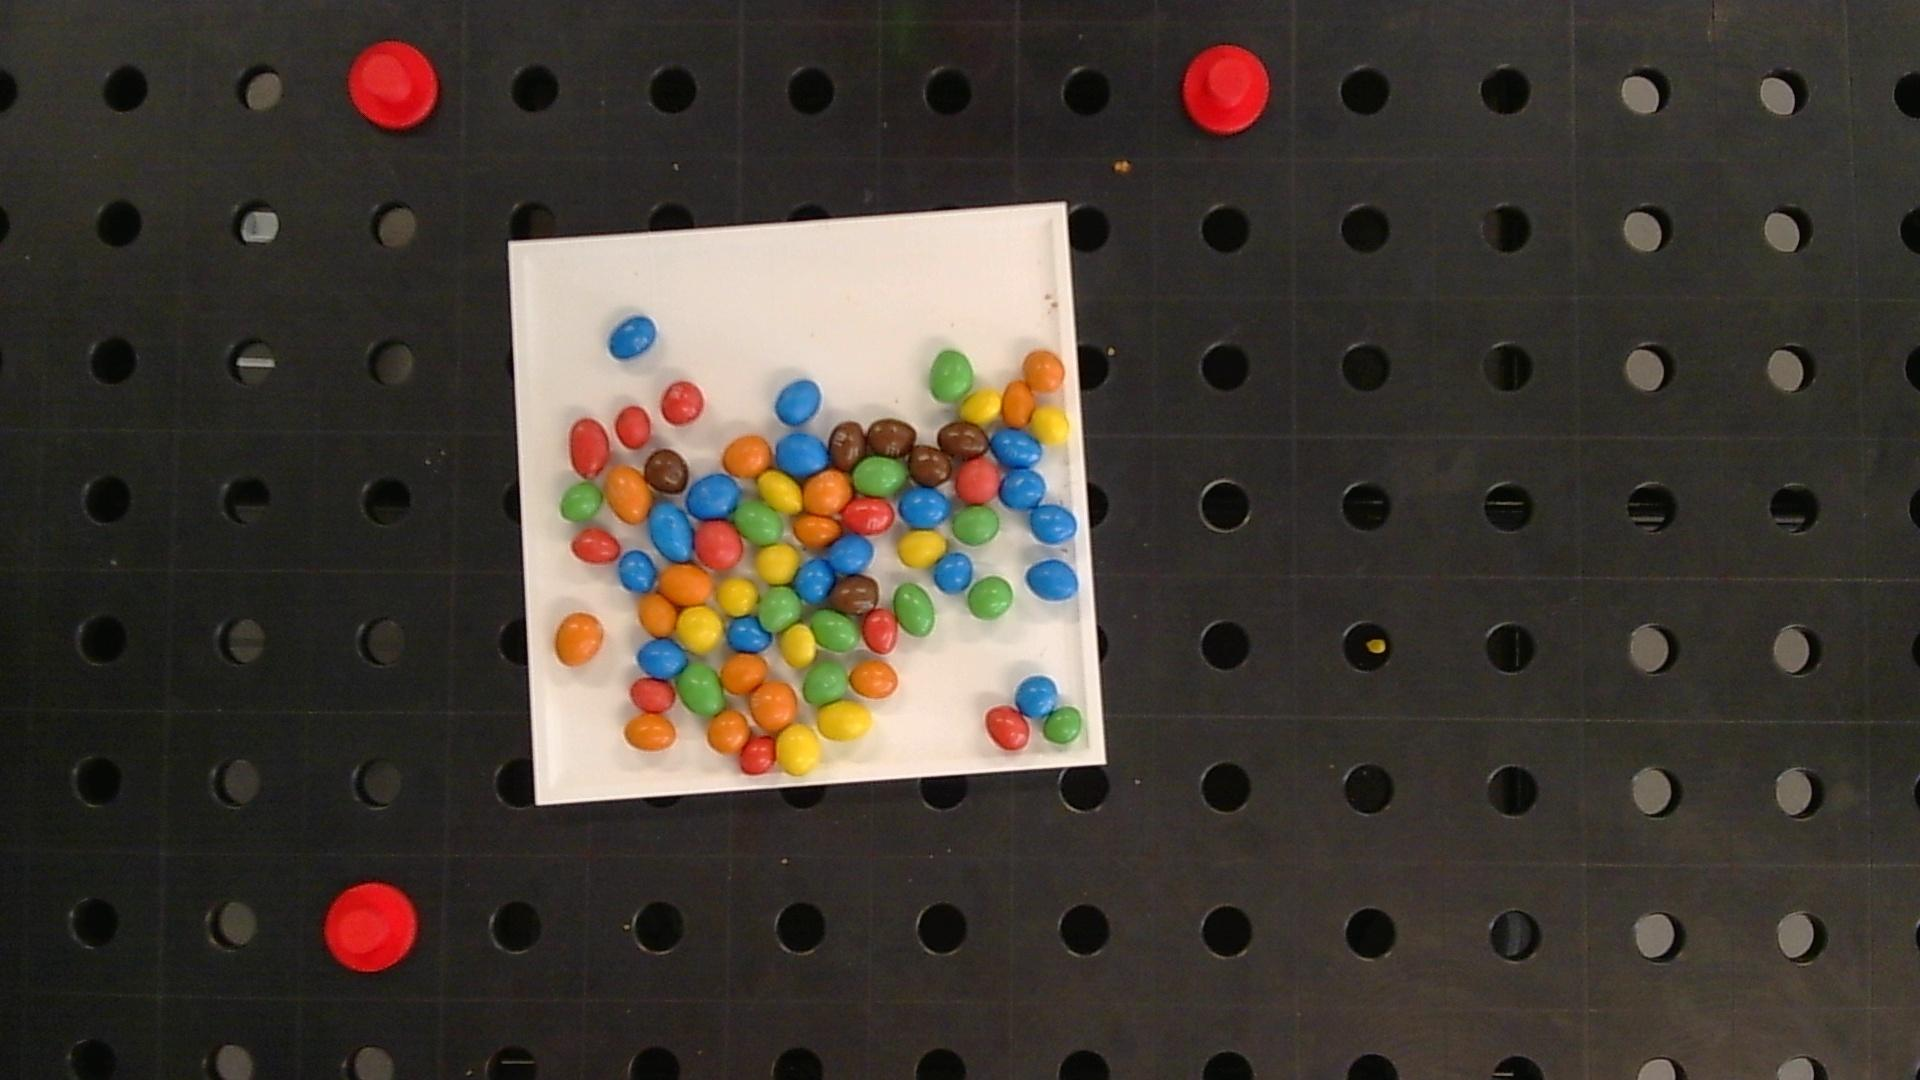blue: (647, 500, 694, 563), (687, 473, 740, 518), (1026, 559, 1079, 601), (777, 433, 828, 475), (609, 315, 657, 360), (775, 380, 822, 425), (899, 487, 948, 527), (990, 429, 1042, 467), (1030, 505, 1077, 545), (638, 638, 687, 676), (1002, 469, 1047, 509), (795, 558, 835, 603), (1017, 675, 1059, 716), (831, 534, 873, 574), (727, 616, 770, 651), (618, 551, 655, 591), (935, 554, 972, 592)
brown: (866, 418, 916, 458), (645, 448, 688, 493), (938, 421, 988, 459), (829, 421, 866, 468), (910, 444, 952, 485), (835, 576, 880, 613)
green: (679, 662, 724, 715), (893, 583, 935, 637), (853, 455, 907, 496), (930, 351, 973, 401), (735, 502, 785, 543), (968, 576, 1014, 620), (811, 609, 858, 651), (804, 661, 848, 704), (952, 506, 1000, 546), (760, 588, 802, 630), (560, 483, 603, 522), (1043, 707, 1085, 745)
orange: (605, 465, 653, 522), (555, 612, 604, 665), (750, 680, 796, 732), (659, 564, 713, 604), (803, 471, 852, 512), (724, 435, 771, 476), (624, 715, 676, 750), (707, 711, 750, 753), (849, 661, 898, 698), (721, 654, 766, 694), (1023, 351, 1065, 392), (793, 513, 840, 547), (640, 592, 676, 636), (1001, 381, 1035, 426)
red: (568, 418, 609, 476), (695, 521, 742, 568), (955, 460, 1001, 504), (985, 705, 1030, 749), (843, 497, 895, 534), (661, 381, 704, 423), (571, 529, 620, 563), (615, 406, 651, 448), (862, 609, 897, 654), (630, 678, 675, 712), (738, 737, 777, 774)
yellow: (816, 702, 872, 740), (777, 725, 819, 774), (678, 607, 723, 651), (758, 472, 802, 512), (898, 531, 945, 567), (757, 545, 799, 583), (779, 625, 816, 666), (1030, 407, 1069, 444), (717, 578, 757, 615), (961, 392, 1001, 423)
